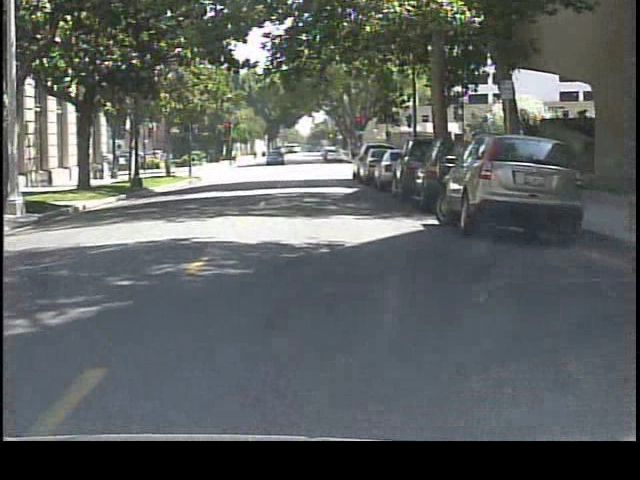person: (230, 141, 242, 168)
